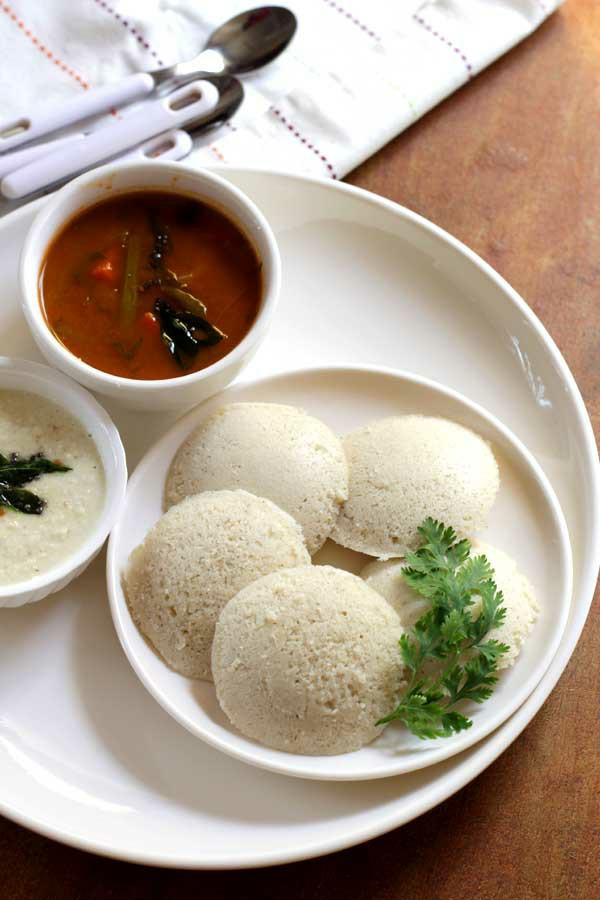CoconutChutney: (0, 384, 106, 590)
Idli: (213, 568, 405, 752), (129, 491, 318, 674), (173, 398, 347, 550), (345, 416, 503, 545)
